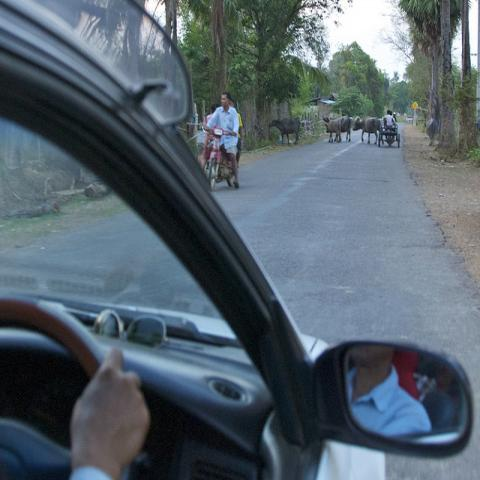car: (1, 5, 474, 434)
motorcycle: (205, 125, 236, 190)
